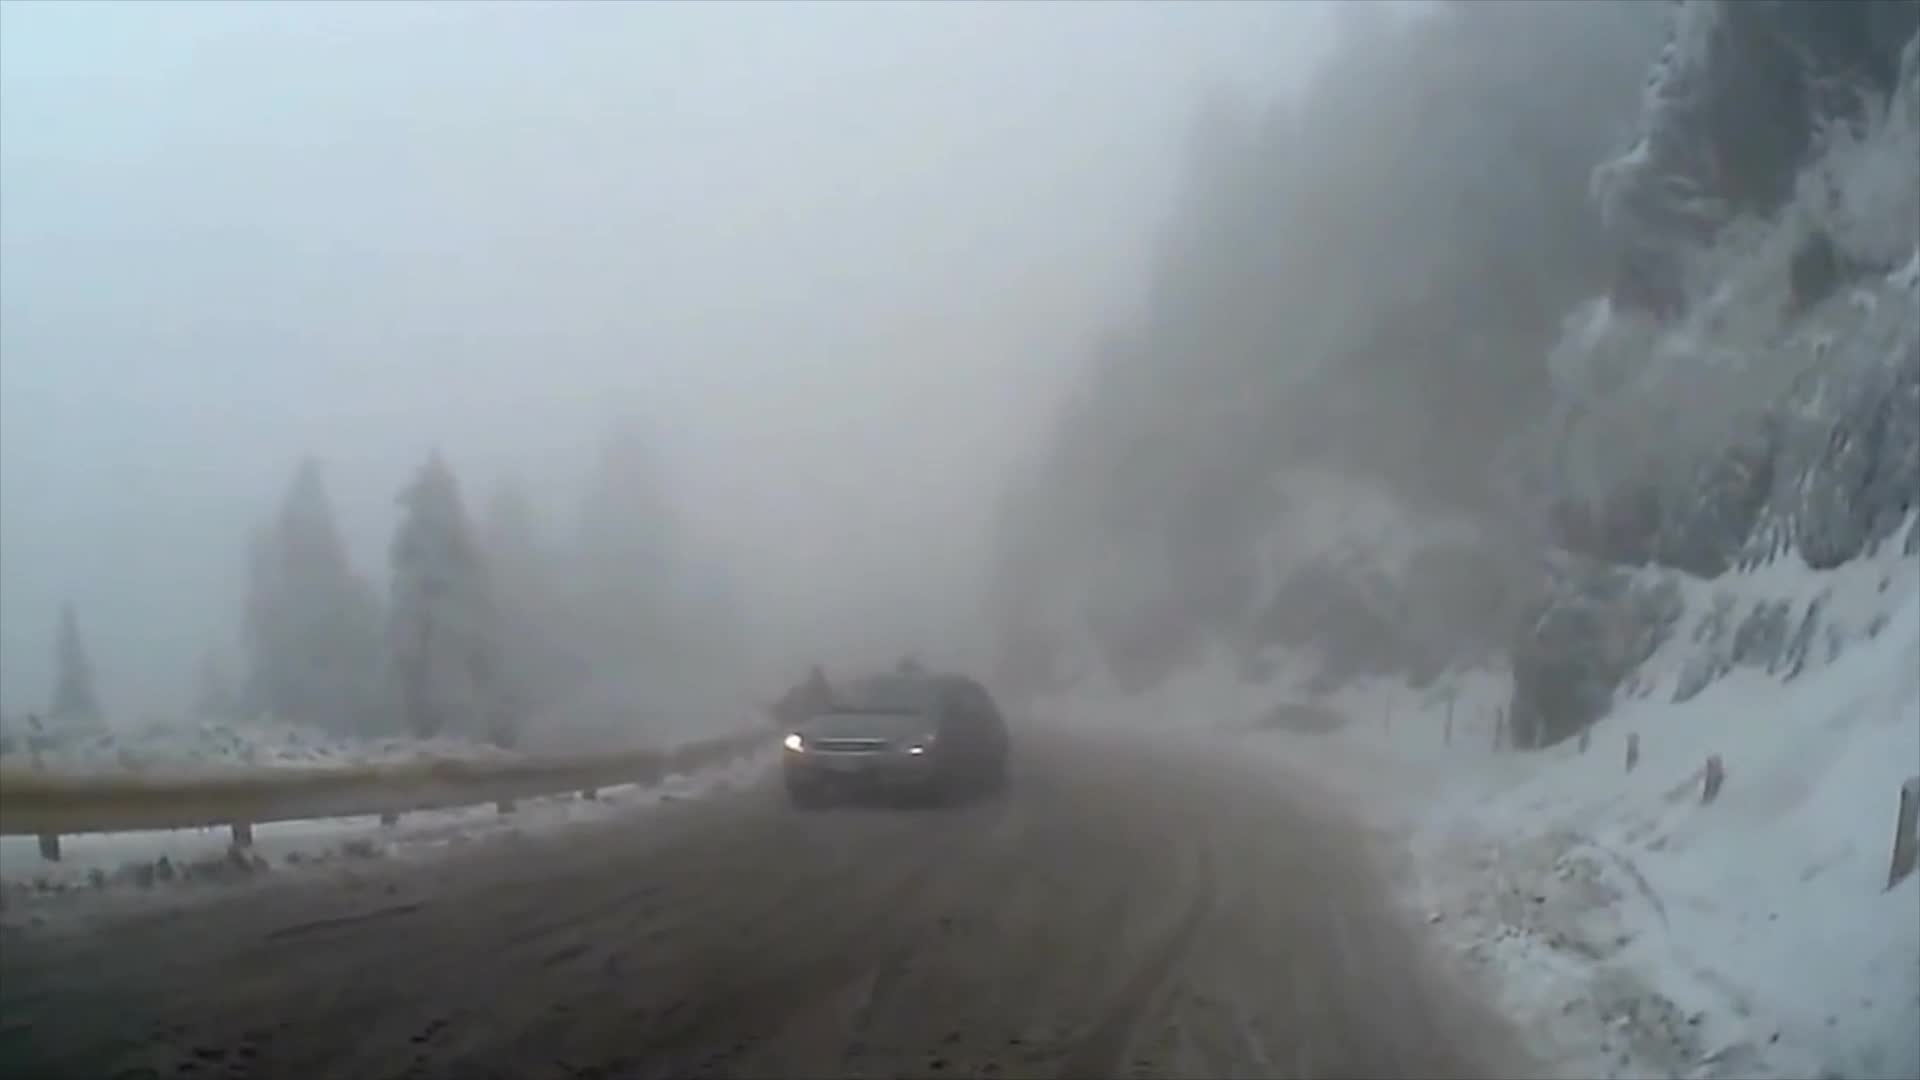vehicle: (785, 673, 1009, 811)
